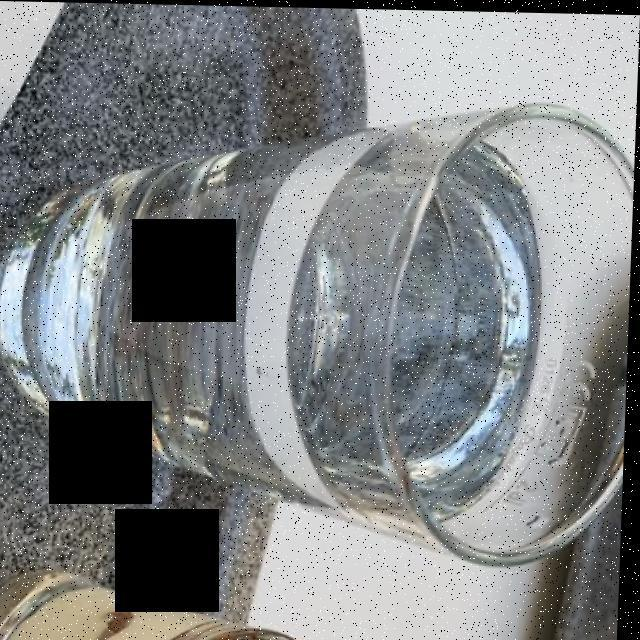water: (46, 132, 591, 527)
